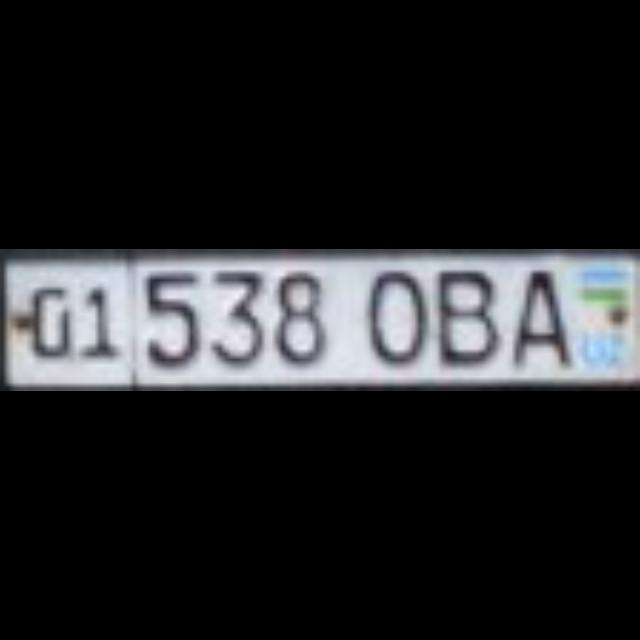0: (23, 278, 63, 352)
1: (69, 278, 109, 352)
3: (200, 266, 252, 364)
5: (138, 266, 188, 364)
8: (264, 266, 314, 358)
A: (502, 266, 560, 364)
B: (428, 266, 486, 358)
O: (360, 266, 418, 358)
